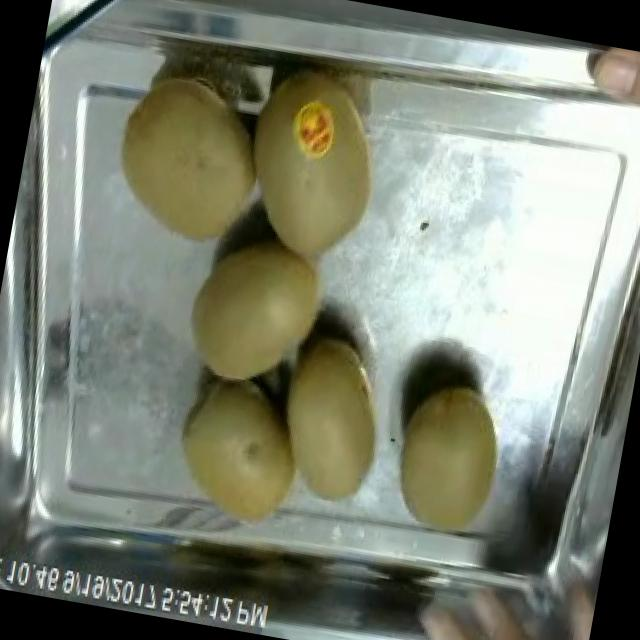Fruit: (93, 52, 293, 266), (236, 69, 403, 278), (168, 218, 346, 410), (248, 318, 410, 522), (157, 364, 320, 545), (372, 365, 524, 550), (572, 42, 640, 141)
